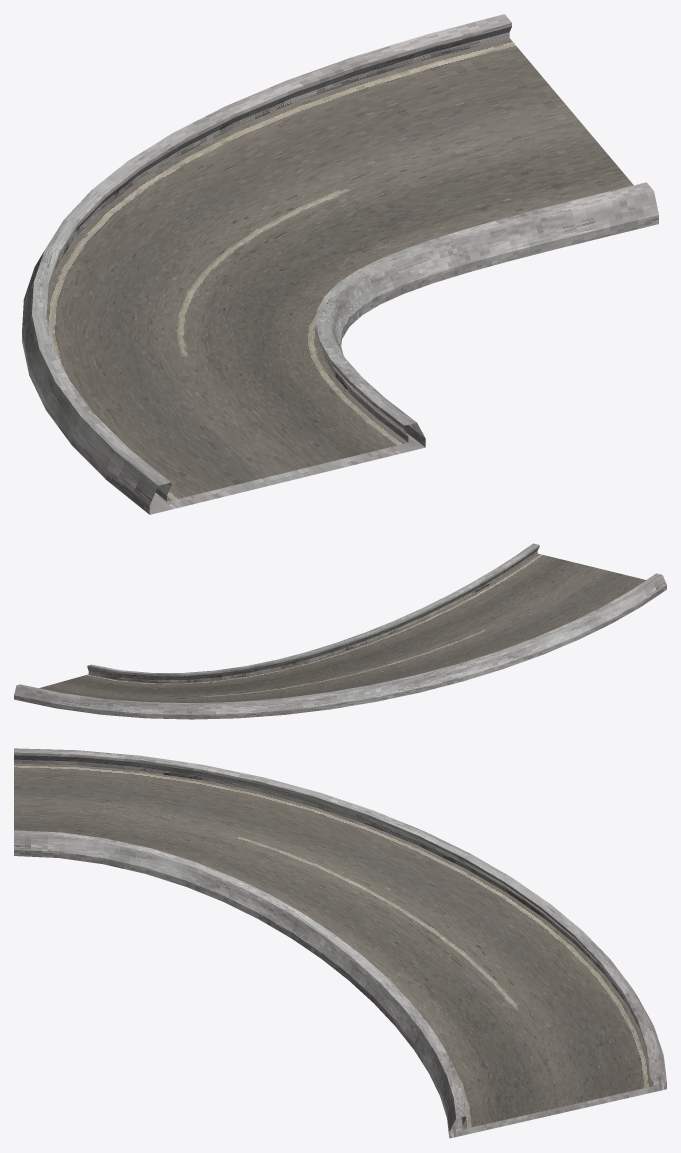
File: road-Turn-Flat-HalfBankedRight-Down2-Right-Size3.glb
The picture shows the model from 3 angles, top to bottom: view 1: azimuth 30°, elevation 25°; view 2: azimuth 150°, elevation 25°; view 3: azimuth 270°, elevation 25°; orthographic projection. The views are drawn at different scales.
Parts seen in each view (by area): view 1: road-Turn-Flat-HalfBankedRight-Down2-Right-Size3; view 2: road-Turn-Flat-HalfBankedRight-Down2-Right-Size3; view 3: road-Turn-Flat-HalfBankedRight-Down2-Right-Size3.
Part boxes in pixels (x1,y1,x2,y2): road-Turn-Flat-HalfBankedRight-Down2-Right-Size3: (22, 14, 658, 514); road-Turn-Flat-HalfBankedRight-Down2-Right-Size3: (14, 543, 666, 719); road-Turn-Flat-HalfBankedRight-Down2-Right-Size3: (14, 748, 666, 1138).
Size of the model in its own units: 3 by 0.5938 by 3.
Materials: 2 (2 with a texture image).
